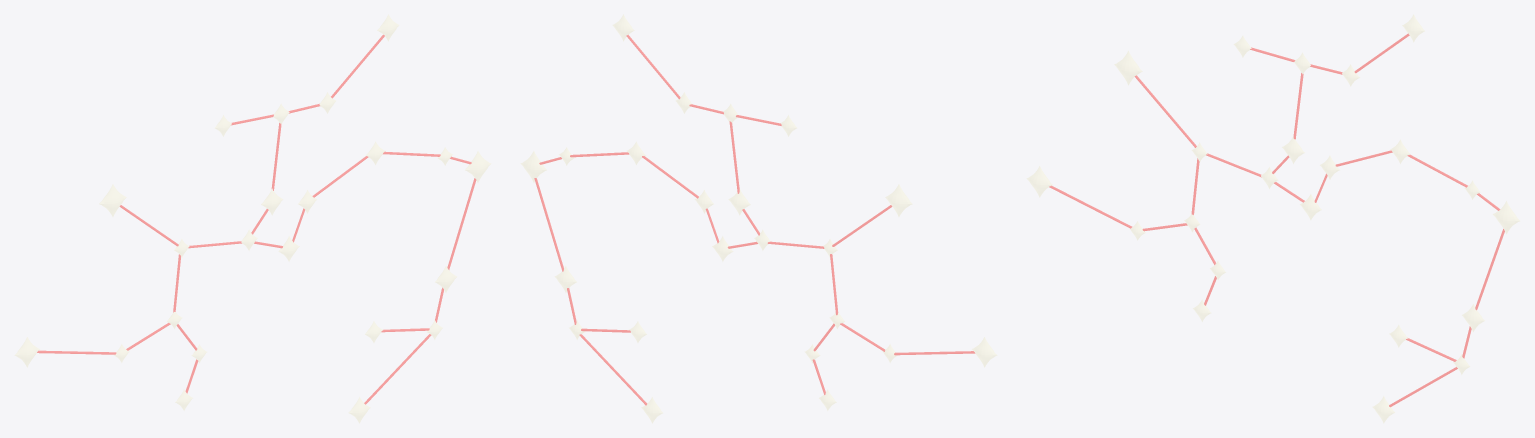
File: sozvezdiya-strelec.glb
The picture shows the model from 3 angles, left to right: view 1: azimuth 30°, elevation 25°; view 2: azimuth 150°, elevation 25°; view 3: azimuth 330°, elevation 25°; orthographic projection. The views are drawn at different scales.
Visible parts, largest first — view 1: Cylinder; view 2: Cylinder; view 3: Cylinder.
Boxes of the visible parts, x1,y1,x2,y2 form: Cylinder: [37, 34, 476, 404]; Cylinder: [534, 34, 975, 405]; Cylinder: [1049, 33, 1504, 407].
Size of the model in its own units: 0.254 by 0.2049 by 0.00671.
